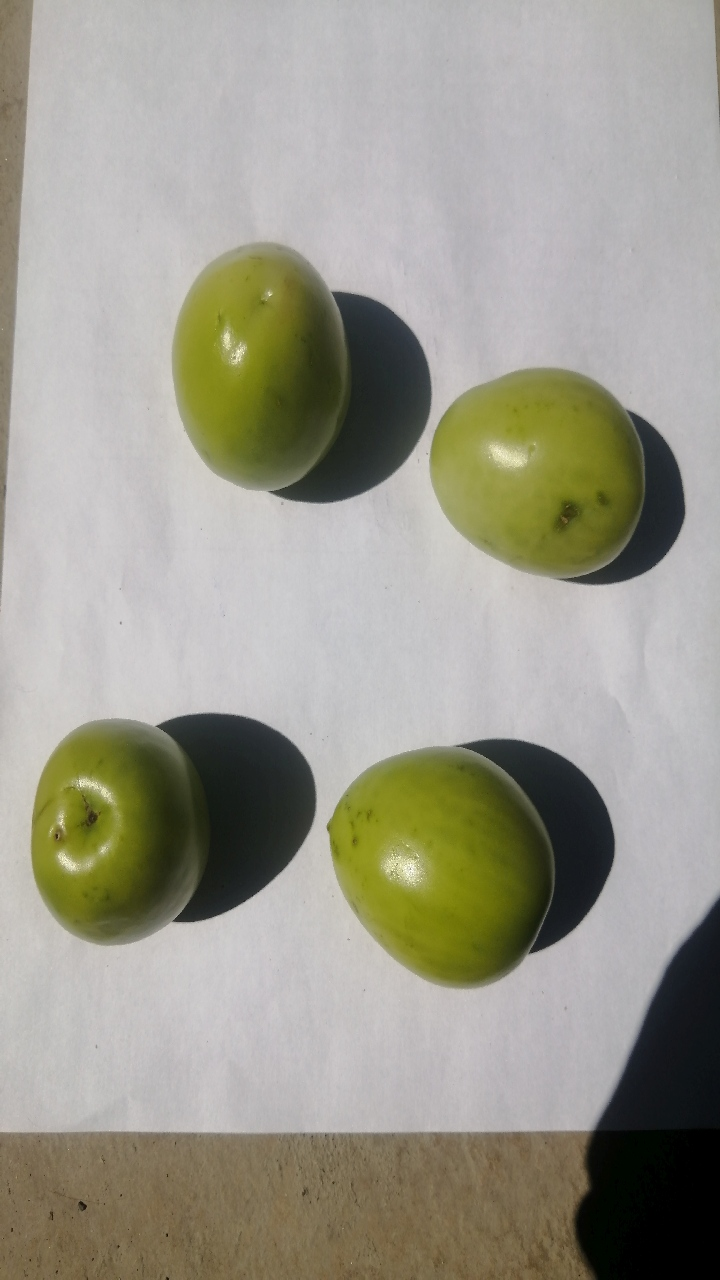tomateVerde: (311, 717, 589, 995), (412, 337, 658, 600), (146, 225, 363, 508), (11, 697, 220, 957)
